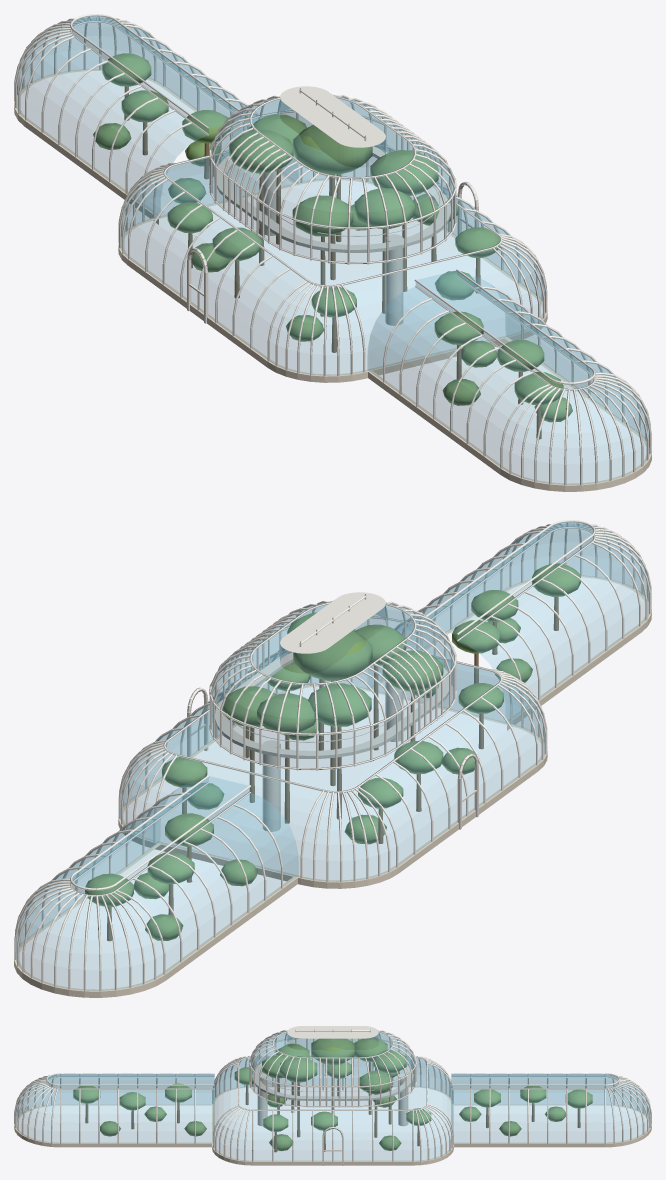
The model's file is london-kew-palm-house.detail.glb.
3 views of the same model, one above another, from view 1: azimuth 30°, elevation 25°; view 2: azimuth 150°, elevation 25°; view 3: azimuth 270°, elevation 25° (orthographic). The views are drawn at different scales.
Parts seen in each view (by area): view 1: Palm House, Kew; view 2: Palm House, Kew; view 3: Palm House, Kew.
Boxes of the visible parts, x1,y1,x2,y2 form: Palm House, Kew: (14, 14, 651, 491); Palm House, Kew: (14, 520, 651, 997); Palm House, Kew: (14, 1026, 651, 1165).
Bounding box in the file's own units: 31.61 × 19 × 112.
